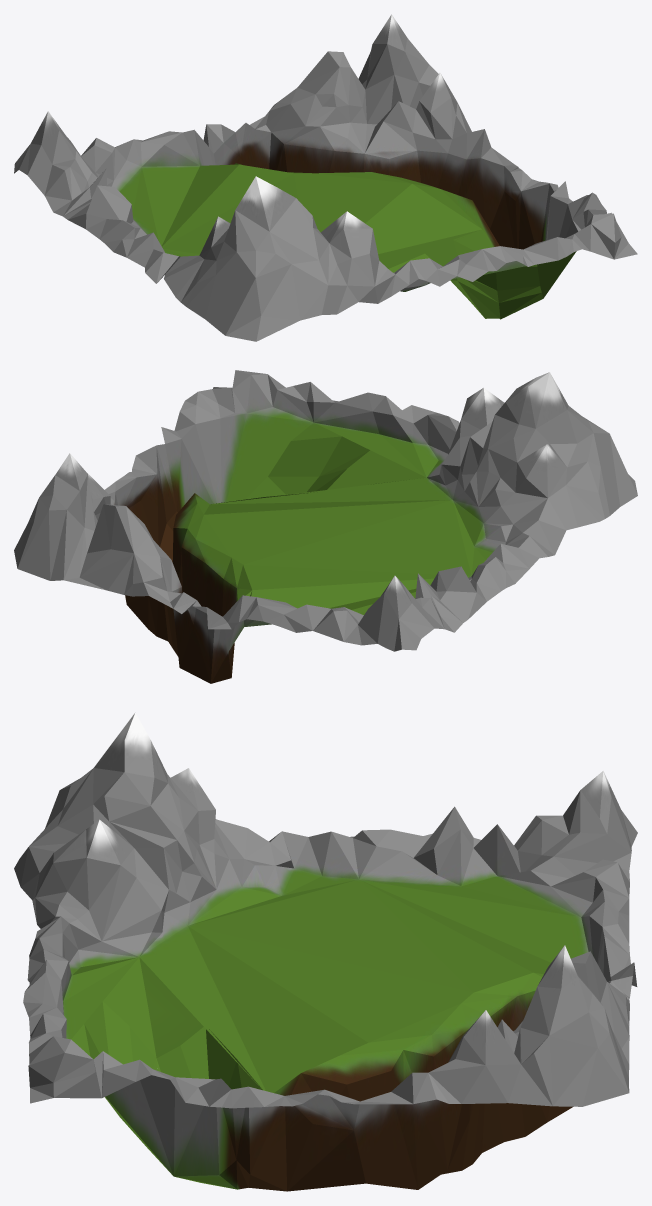
The model's file is landscape2.glb.
3 renders of one model, top to bottom at view 1: azimuth 30°, elevation 25°; view 2: azimuth 150°, elevation 25°; view 3: azimuth 270°, elevation 25°, orthographic. The views are drawn at different scales.
Visible parts, largest first — view 1: landscape; view 2: landscape; view 3: landscape.
Boxes of the visible parts, x1,y1,x2,y2 form: landscape: (14,14,637,341); landscape: (14,370,637,683); landscape: (14,712,637,1191).
Bounding box in the file's own units: 26.79 × 13.83 × 26.63.
Materials: 1 (1 with a texture image).
